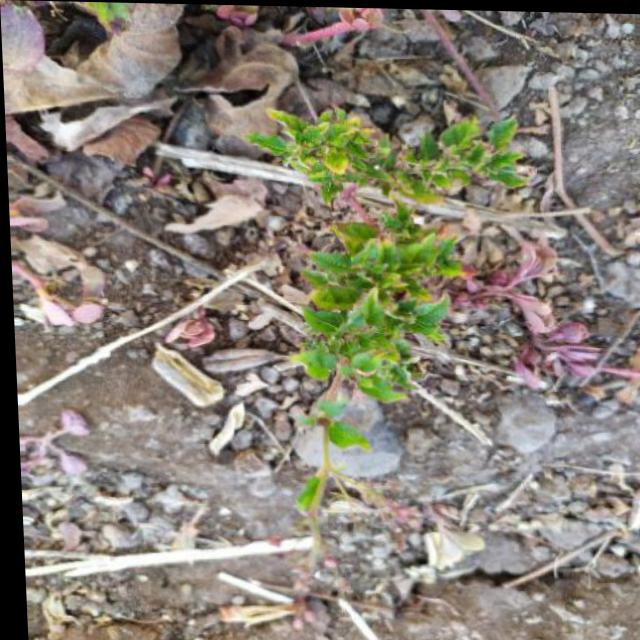crop: (255, 92, 527, 560)
